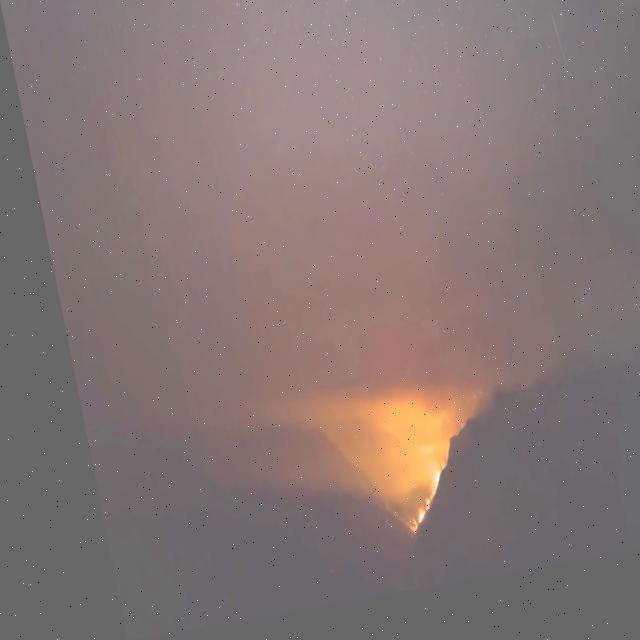Fire: (378, 481, 428, 544)
